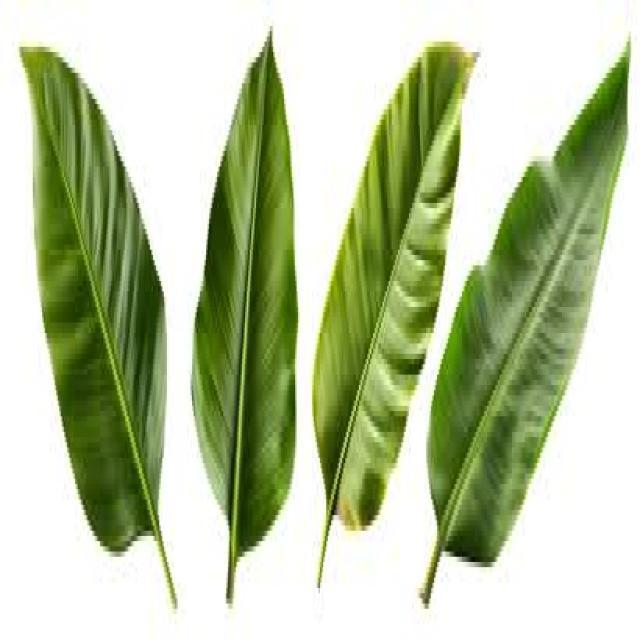leaf: (418, 31, 631, 604), (311, 39, 480, 588), (17, 42, 176, 606), (190, 25, 298, 605)
